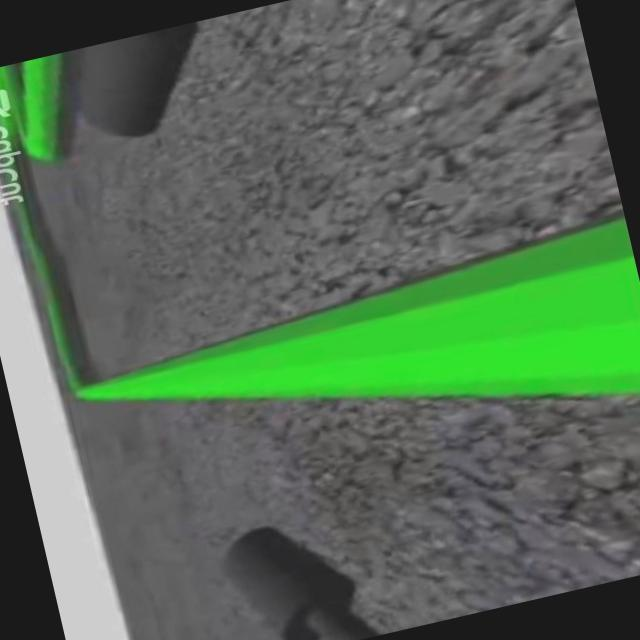gas: (87, 217, 640, 515)
